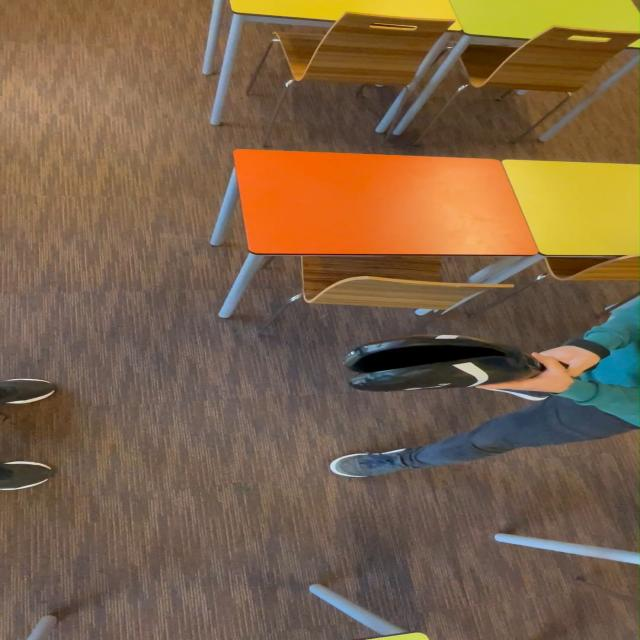paddle: (338, 340, 533, 389)
